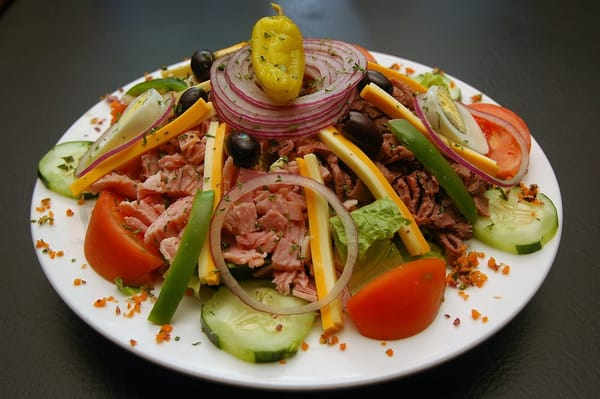sushi: (211, 44, 369, 139)
